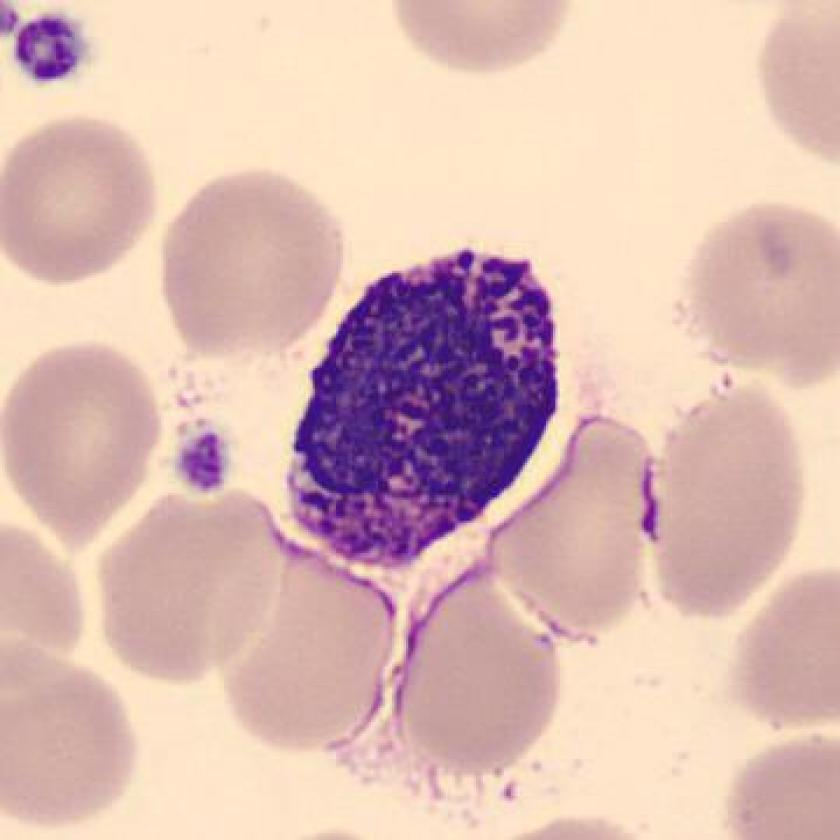basophil: (293, 232, 566, 568)
